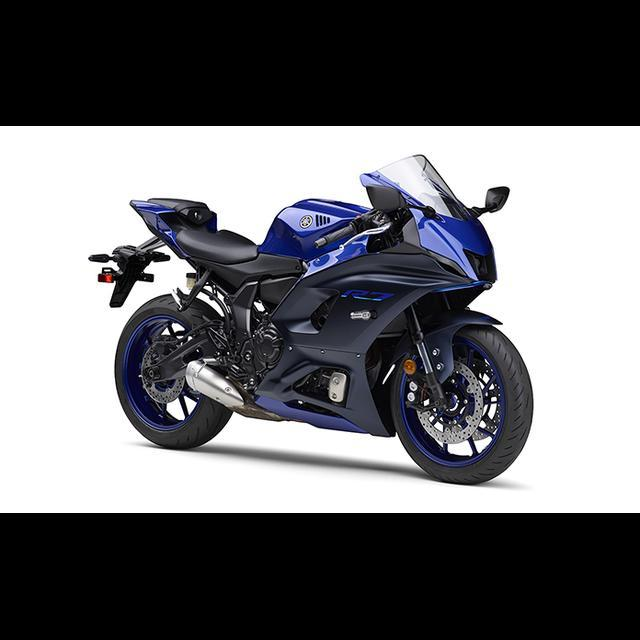motorcycle: (81, 145, 540, 490)
